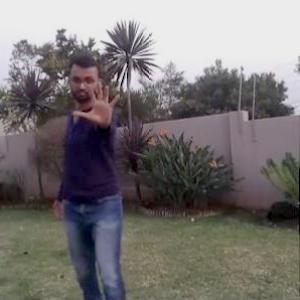follow_hand: (70, 74, 126, 131)
